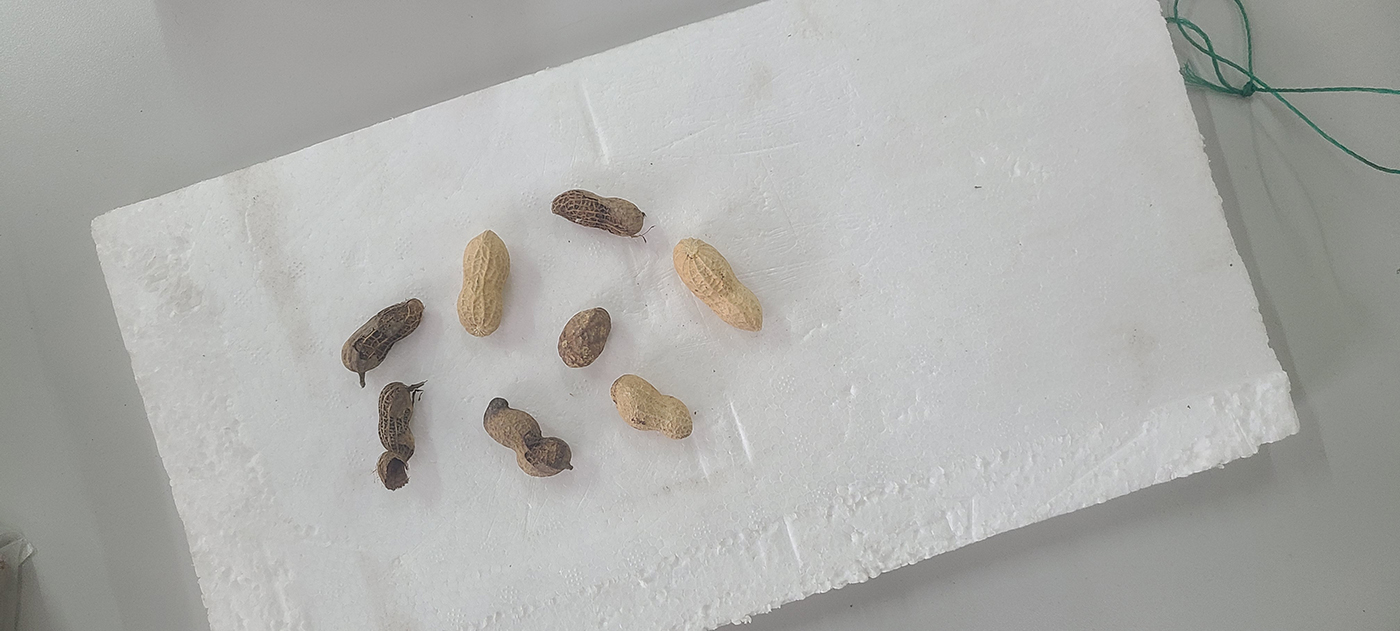h: (672, 237, 763, 331), (457, 229, 511, 338), (610, 374, 693, 440)
l: (481, 397, 574, 477), (341, 297, 424, 374), (375, 381, 418, 491), (551, 189, 645, 237), (557, 307, 612, 367)
